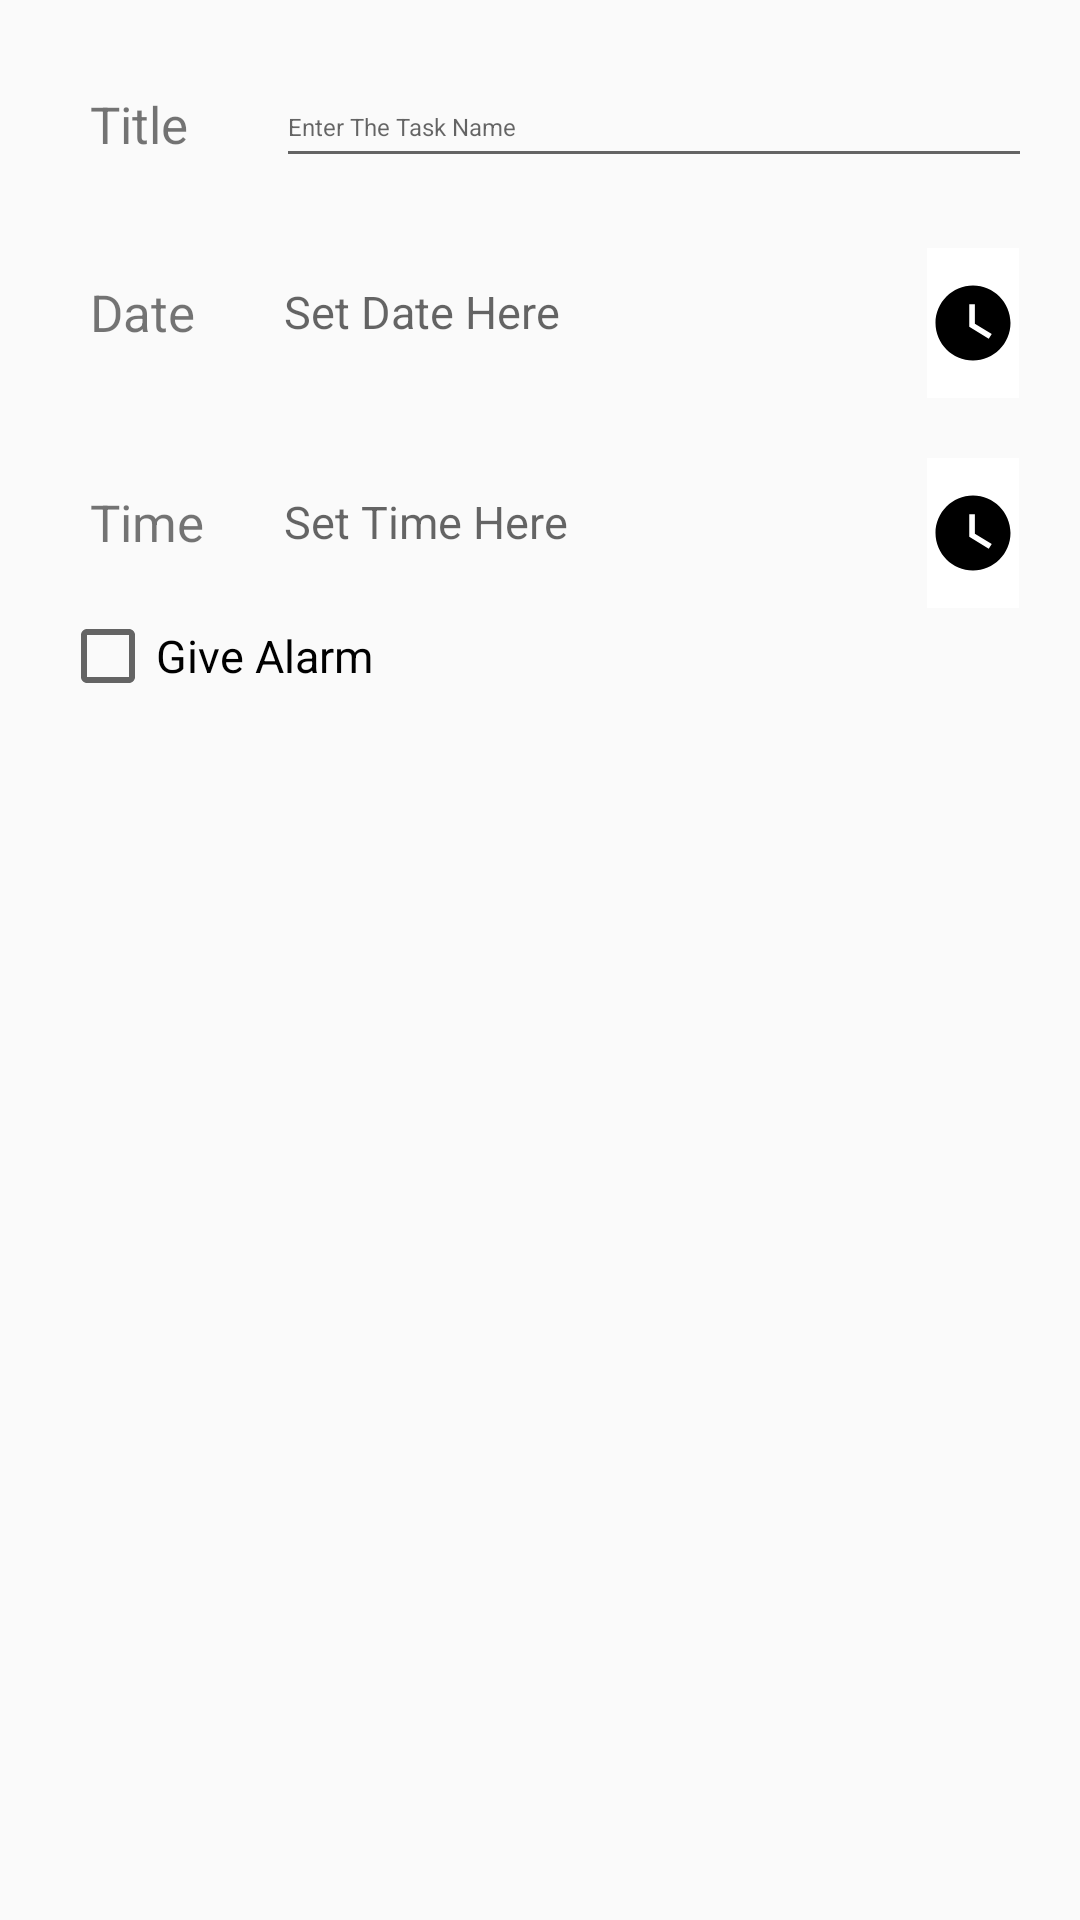

Icons on this 1080×1920 Android screen, each with the point to tap as point (x, y):
watch: point (973, 323), point (973, 533)
